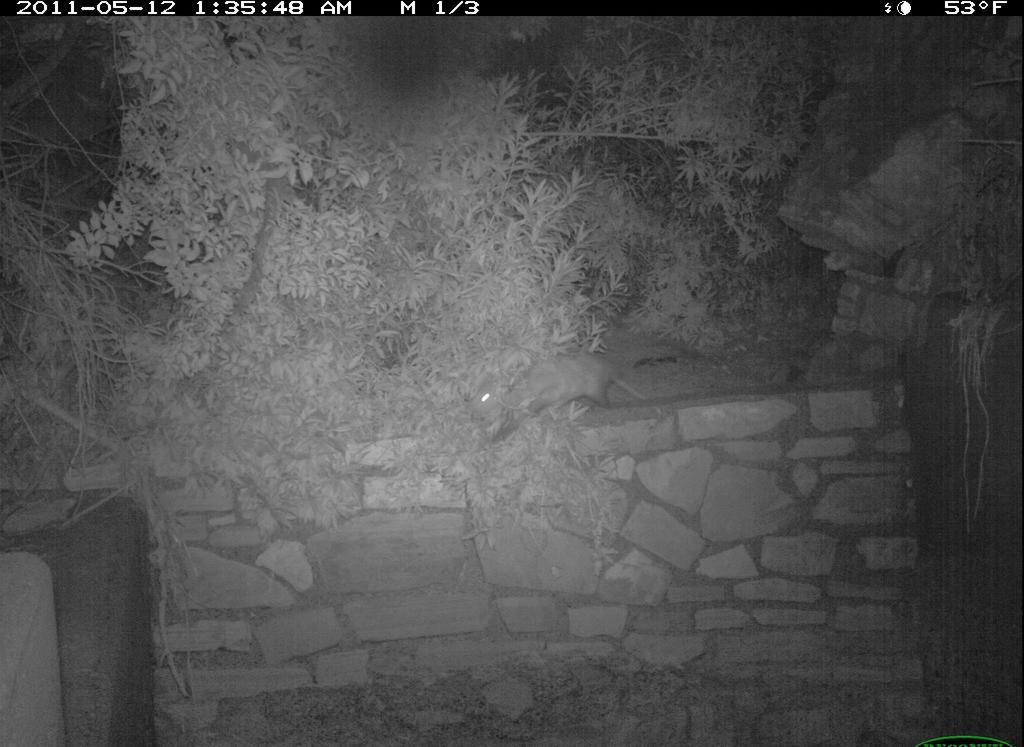opossum: (461, 336, 648, 455)
